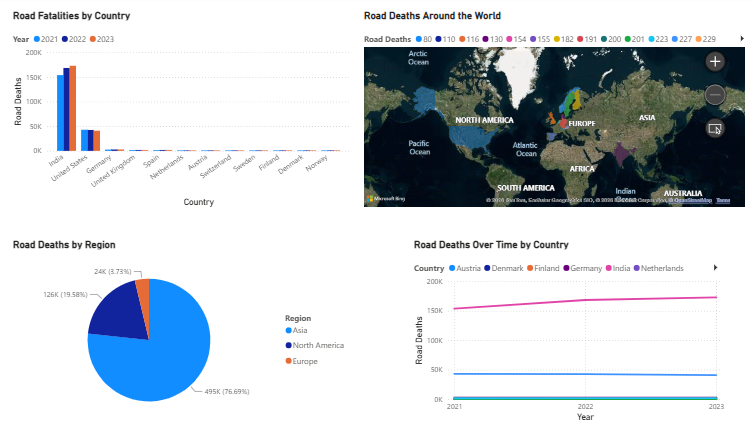

What the dashboard file says about the page in this screenshot:
{"tool":"powerbi","page":{"name":"Road Deaths","canvas":[1280,720],"ordinal":0},"visuals":[{"type":"clusteredColumnChart","title":"Road Fatalities by Country","fields":{"Category":["Road Traffic Deaths.Country"],"Y":["Sum(Road Traffic Deaths.Road Deaths)"],"Series":["Road Traffic Deaths.Year"]},"box":[26.9,21.8,576.2,337.6],"z":0},{"type":"lineChart","title":"Road Deaths Over Time by Country","fields":{"Category":["Road Traffic Deaths.Year"],"Y":["Sum(Road Traffic Deaths.Road Deaths)"],"Series":["Road Traffic Deaths.Country"]},"box":[700.5,406.5,530.8,314.1],"z":1000},{"type":"filledMap","title":"Road Deaths Around the World","fields":{"Category":["Road Traffic Deaths.Country"],"Series":["Road Traffic Deaths.Road Deaths"]},"box":[616.5,21.8,650.1,337.6],"z":2000},{"type":"pieChart","fields":{"Y":["Sum(Road Traffic Deaths.Road Deaths)"],"Category":["Road Traffic Deaths.Region"]},"box":[27,407,576,313],"z":2001}]}

Visuals, with their boxes in screenshot pixels (x1, y1, x2, y2), scaled from the page's 1280x720 canvas onto the 751x423 screenshot:
"Road Fatalities by Country" clusteredColumnChart: {"left": 16, "top": 13, "right": 354, "bottom": 211}
"Road Deaths Over Time by Country" lineChart: {"left": 411, "top": 239, "right": 722, "bottom": 422}
"Road Deaths Around the World" filledMap: {"left": 362, "top": 13, "right": 743, "bottom": 211}
pieChart - Sum(Road Traffic Deaths.Road Deaths) x Road Traffic Deaths.Region: {"left": 16, "top": 239, "right": 354, "bottom": 422}
